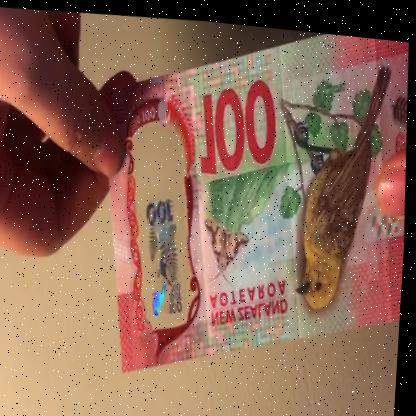100B: (140, 143, 195, 321)
